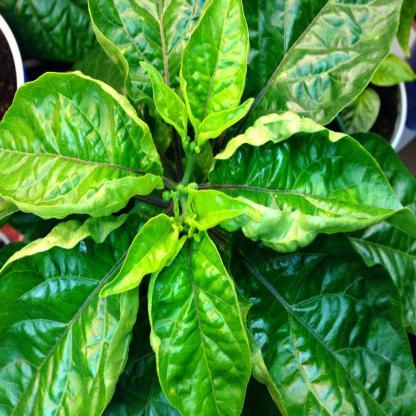Bell_pepper leaf spot: (212, 122, 402, 246), (1, 69, 168, 206), (140, 228, 254, 416), (183, 0, 252, 138)
